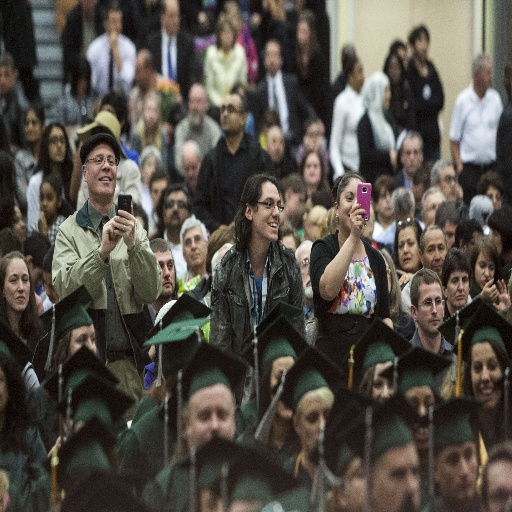hand: (111, 202, 135, 250), (98, 216, 120, 252), (349, 199, 367, 240), (492, 276, 510, 311), (478, 277, 497, 303), (395, 266, 414, 286), (36, 210, 47, 236), (145, 341, 155, 363), (109, 29, 118, 49), (390, 148, 397, 171), (455, 161, 462, 176), (227, 219, 234, 231), (218, 223, 226, 228)
